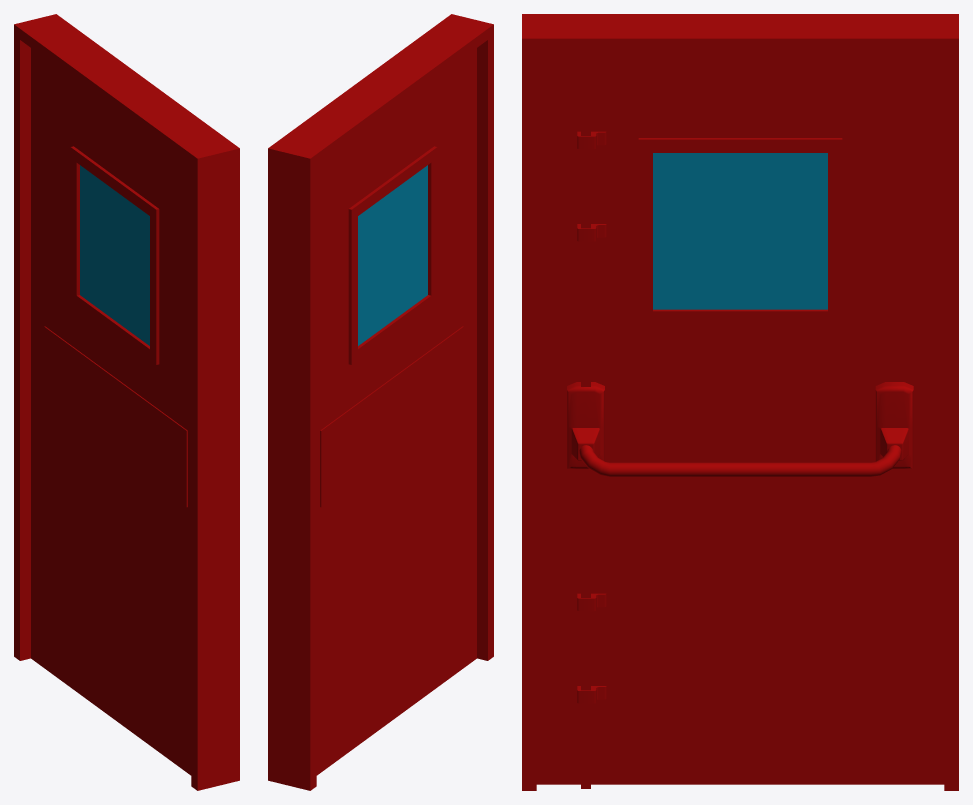
The model's file is MetalDoor_gameasset.fbx.
3 views of the same model, side by side, from view 1: azimuth 30°, elevation 25°; view 2: azimuth 150°, elevation 25°; view 3: azimuth 270°, elevation 25° (orthographic). The views are drawn at different scales.
Parts seen in each view (by area): view 1: MetalDoor, DoorFrame; view 2: MetalDoor, DoorFrame; view 3: MetalDoor, DoorFrame.
Part boxes in pixels (bbox=[...]): MetalDoor: bbox=[31, 48, 191, 775]; DoorFrame: bbox=[14, 14, 239, 790]; MetalDoor: bbox=[316, 48, 476, 775]; DoorFrame: bbox=[268, 14, 493, 790]; MetalDoor: bbox=[536, 51, 944, 788]; DoorFrame: bbox=[522, 14, 958, 790].
Bounding box in the file's own units: 0.3301 × 2.85 × 1.5.
